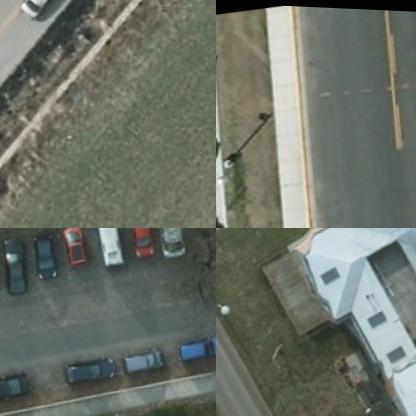car: (66, 348, 122, 384), (4, 233, 38, 284), (124, 340, 172, 373), (11, 0, 86, 21), (35, 228, 70, 273), (0, 364, 42, 398), (63, 228, 94, 264), (183, 323, 215, 357), (156, 228, 193, 254), (98, 228, 129, 256), (128, 228, 161, 251)
